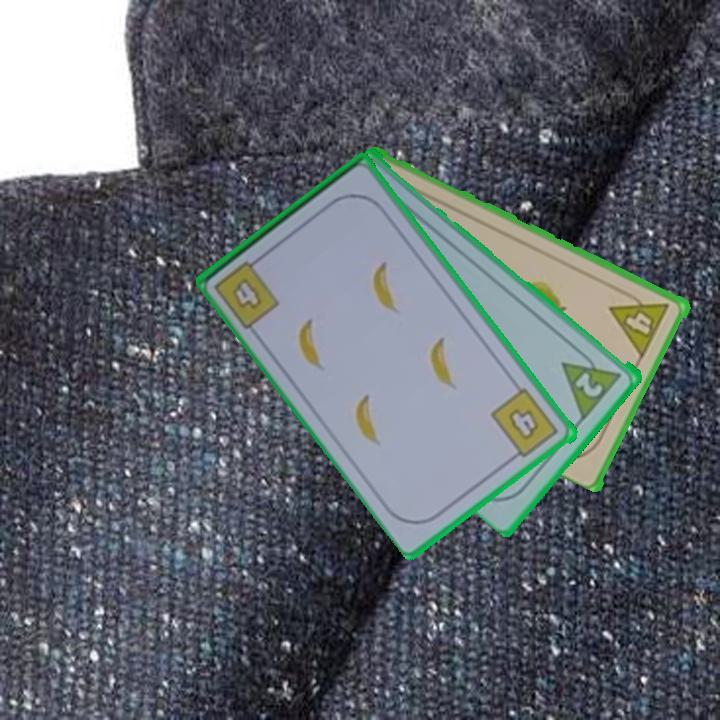2p: (558, 343, 626, 421)
4b: (488, 385, 562, 464), (229, 278, 266, 313)
4p: (607, 285, 673, 359)
